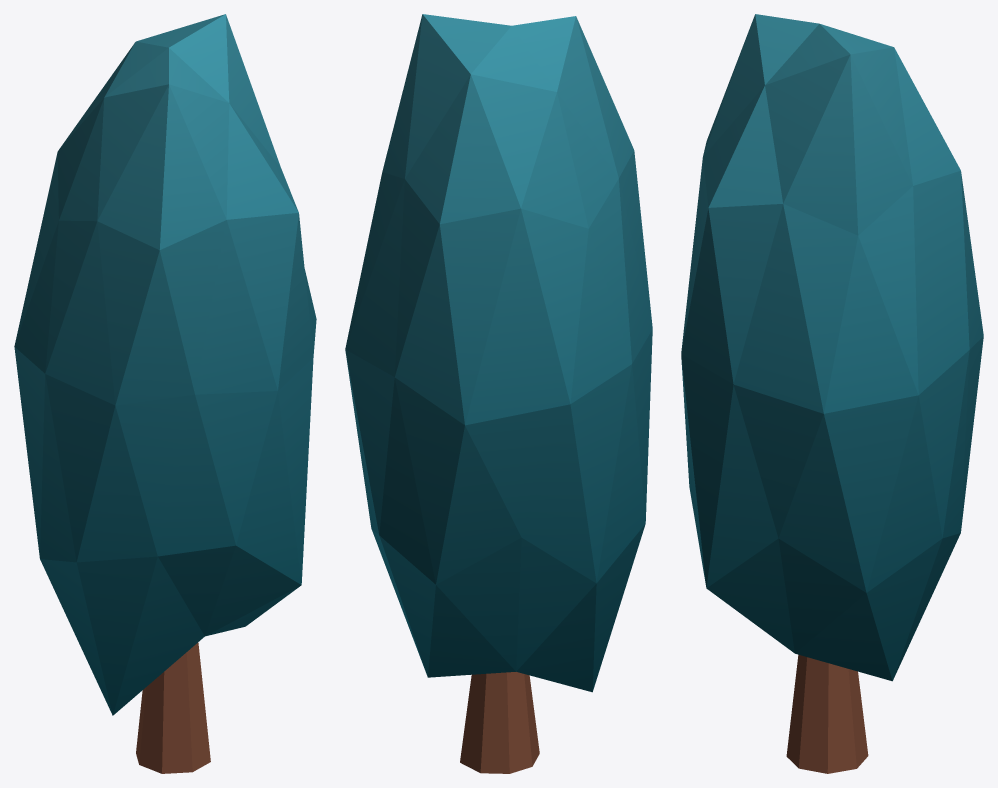
Rendered from Tree_05_gradient_blue_vc.fbx.
The picture shows the model from 3 angles, left to right: view 1: azimuth 30°, elevation 25°; view 2: azimuth 150°, elevation 25°; view 3: azimuth 270°, elevation 25°; orthographic projection. The views are drawn at different scales.
Parts seen in each view (by area): view 1: Tree_05_gradient_blue_vc; view 2: Tree_05_gradient_blue_vc; view 3: Tree_05_gradient_blue_vc.
Part boxes in pixels (left/top/right/bottom): Tree_05_gradient_blue_vc: left=14, top=14, right=316, bottom=773; Tree_05_gradient_blue_vc: left=345, top=14, right=652, bottom=773; Tree_05_gradient_blue_vc: left=681, top=14, right=983, bottom=773.
Size of the model in its own units: 104 by 266 by 99.25.
